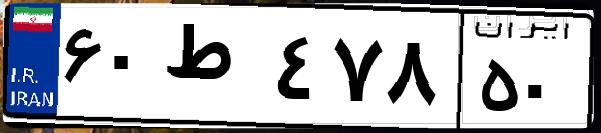0: (525, 38, 570, 115), (110, 28, 158, 98)
4: (270, 28, 330, 110)
5: (475, 38, 525, 113)
6: (57, 26, 110, 100)
7: (330, 28, 385, 110)
8: (385, 28, 445, 110)
ط: (158, 20, 270, 120)
